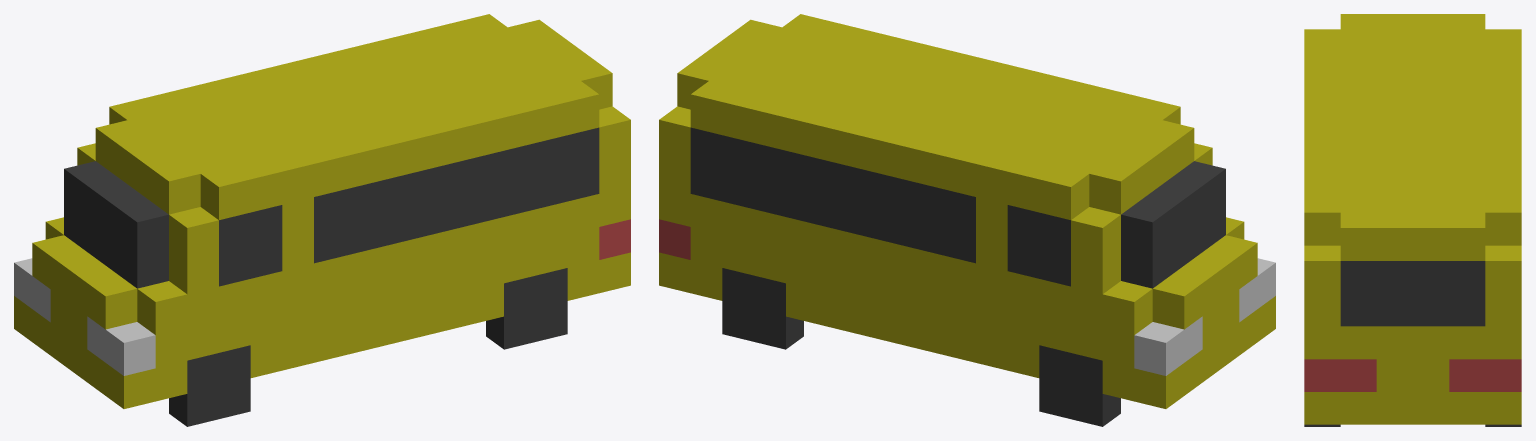
File: bus-small-yellow.gltf
3 views of the same model, side by side, from view 1: azimuth 30°, elevation 25°; view 2: azimuth 150°, elevation 25°; view 3: azimuth 270°, elevation 25° (orthographic).
Visible parts, largest first — view 1: model, wheels; view 2: model, wheels; view 3: model, wheels.
Boxes of the visible parts, x1,y1,x2,y2 form: model: (14, 14, 630, 408); wheels: (169, 268, 567, 426); model: (659, 14, 1275, 408); wheels: (722, 268, 1120, 426); model: (1304, 14, 1521, 424); wheels: (1304, 424, 1521, 426).
Bounding box in the file's own units: 1.6 × 0.7 × 0.6.
Materials: 2 (2 with a texture image).
